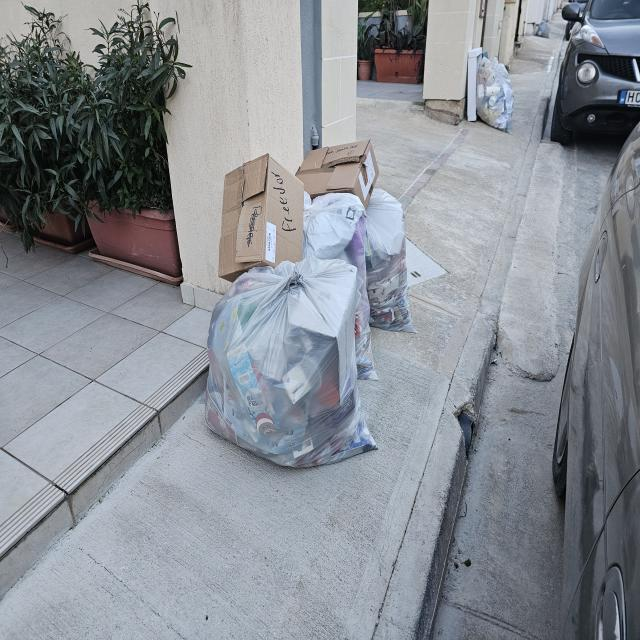grey_bag: (206, 267, 380, 467), (368, 190, 418, 334), (304, 195, 366, 265)
other_waste: (218, 153, 302, 264), (300, 139, 378, 191)
